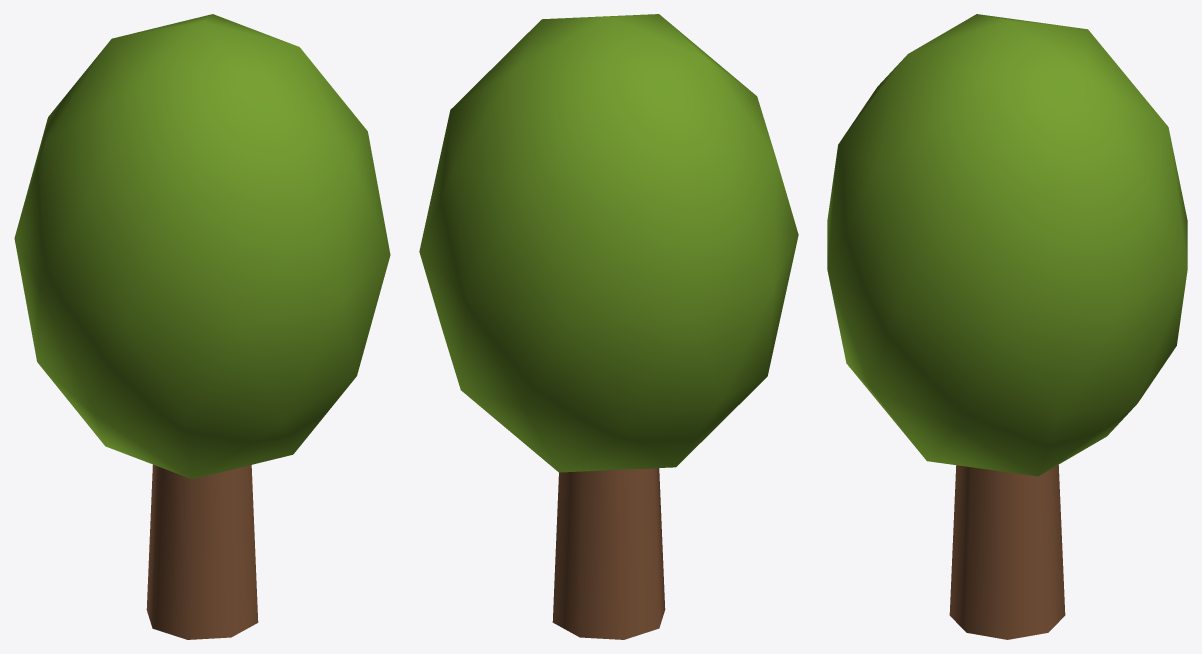
File: Tree-2.fbx
3 renders of one model, left to right at view 1: azimuth 30°, elevation 25°; view 2: azimuth 150°, elevation 25°; view 3: azimuth 270°, elevation 25°, orthographic.
Visible parts, largest first — view 1: Icosphere.337, Cylinder.336; view 2: Icosphere.337, Cylinder.336; view 3: Icosphere.337, Cylinder.336.
Part boxes in pixels (x1,y1,x2,y2): Icosphere.337: (14,14,390,479); Cylinder.336: (146,464,258,639); Icosphere.337: (419,14,798,472); Cylinder.336: (552,468,665,639); Icosphere.337: (827,14,1187,476); Cylinder.336: (949,465,1065,639).
Size of the model in its own units: 46.02 by 79.79 by 43.77.
